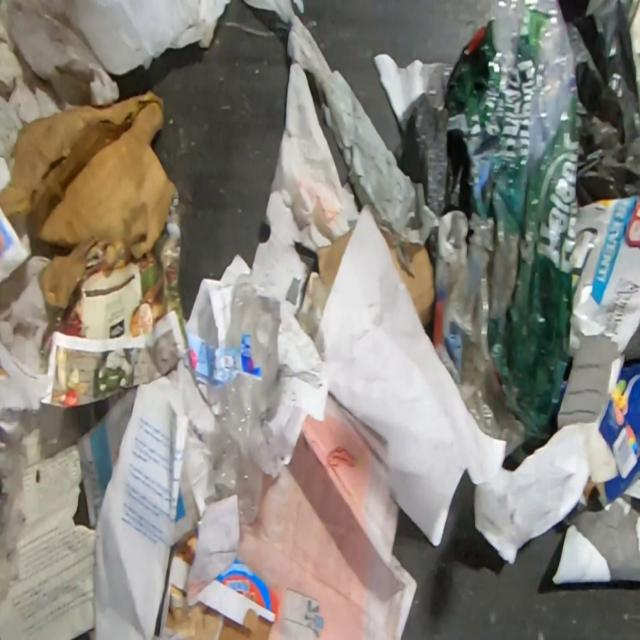cardboard: (0, 87, 176, 311), (556, 195, 640, 432), (248, 190, 360, 317), (158, 527, 281, 640), (578, 358, 640, 509), (399, 92, 470, 218), (390, 244, 435, 329)
rigid_plastic: (0, 402, 83, 604)
soft_plastic: (435, 0, 580, 461), (242, 0, 442, 272), (204, 279, 282, 527), (565, 0, 640, 207), (36, 0, 231, 76)
